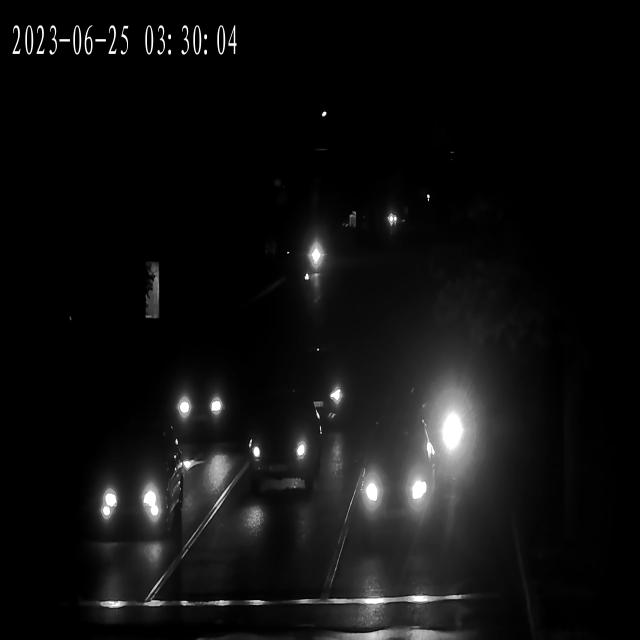Car: (73, 422, 186, 544), (396, 363, 476, 472), (347, 438, 438, 532), (240, 406, 326, 490), (298, 338, 349, 430), (172, 365, 236, 434), (302, 237, 328, 277), (387, 211, 399, 230)
